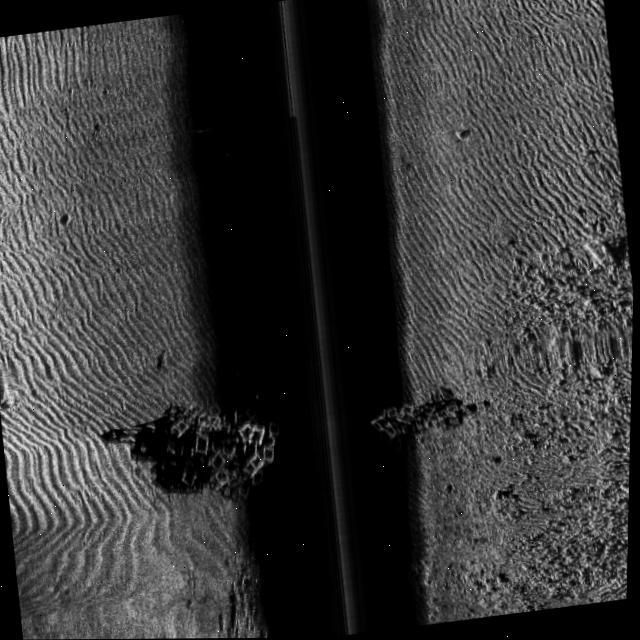artificial reef: (154, 380, 297, 511), (355, 375, 488, 462)
